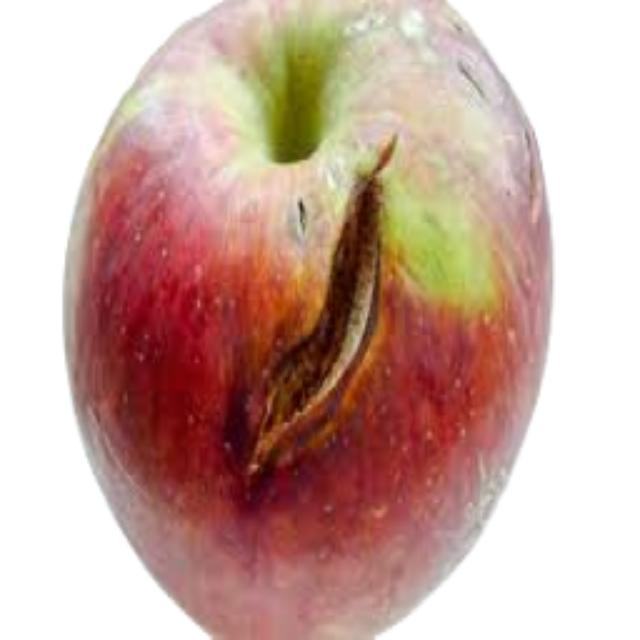defect: (52, 0, 559, 637)
